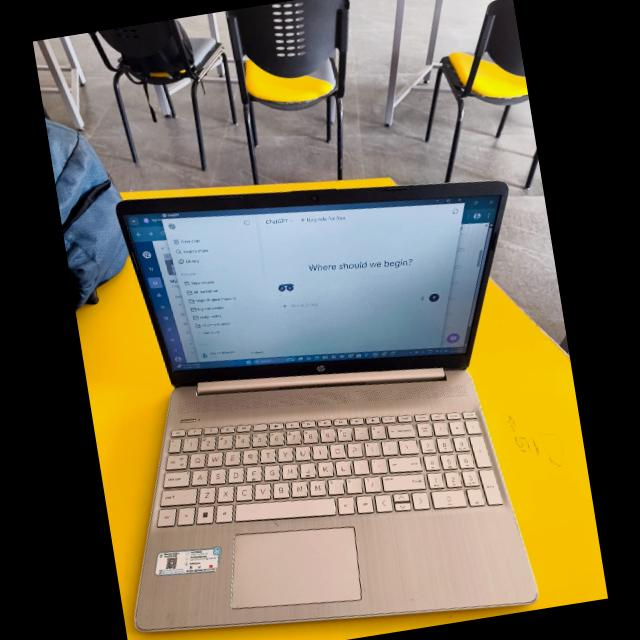laptop: (77, 106, 573, 640)
